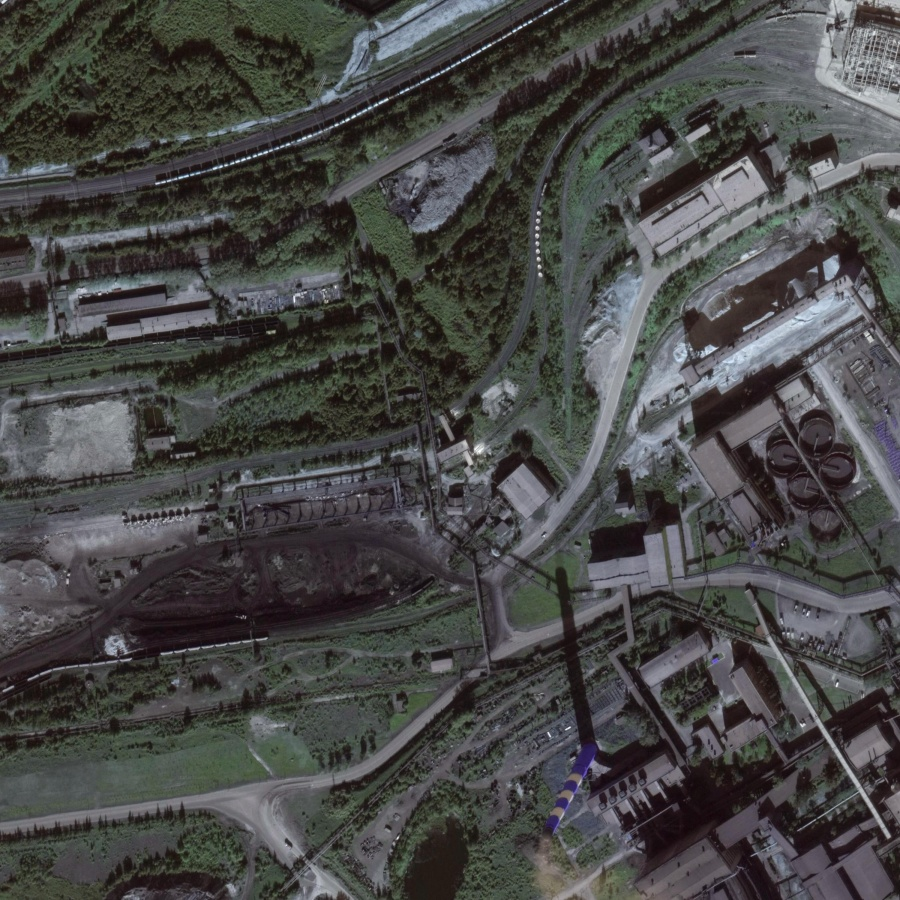PowerPlant: (3, 502, 443, 667)
